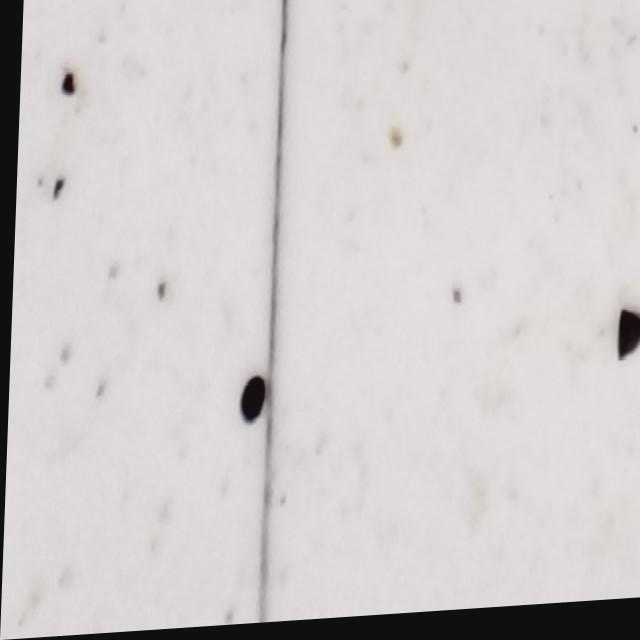varroa: (238, 378, 270, 427)
